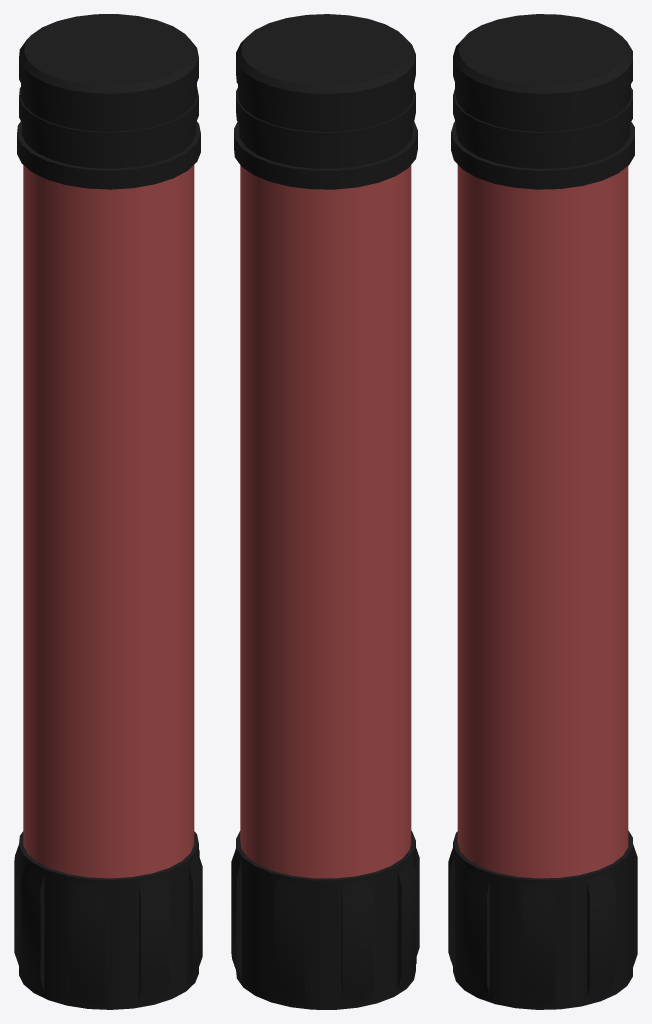
The model's file is Cola.fbx.
3 views of the same model, side by side, from view 1: azimuth 30°, elevation 25°; view 2: azimuth 150°, elevation 25°; view 3: azimuth 270°, elevation 25° (orthographic).
Visible parts, largest first — view 1: Cola.001; view 2: Cola.001; view 3: Cola.001.
Part boxes in pixels (bbox=[...]): Cola.001: bbox=[14, 14, 202, 1009]; Cola.001: bbox=[231, 14, 419, 1009]; Cola.001: bbox=[448, 14, 637, 1009].
Size of the model in its own units: 447 by 2393 by 446.
